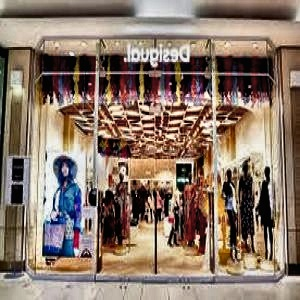desigual: (138, 20, 258, 58)
